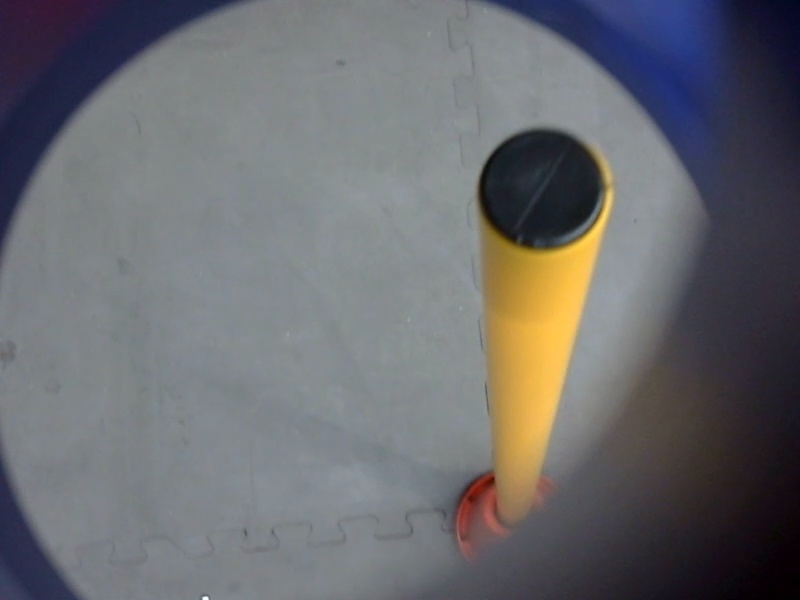tip: (468, 120, 622, 266)
